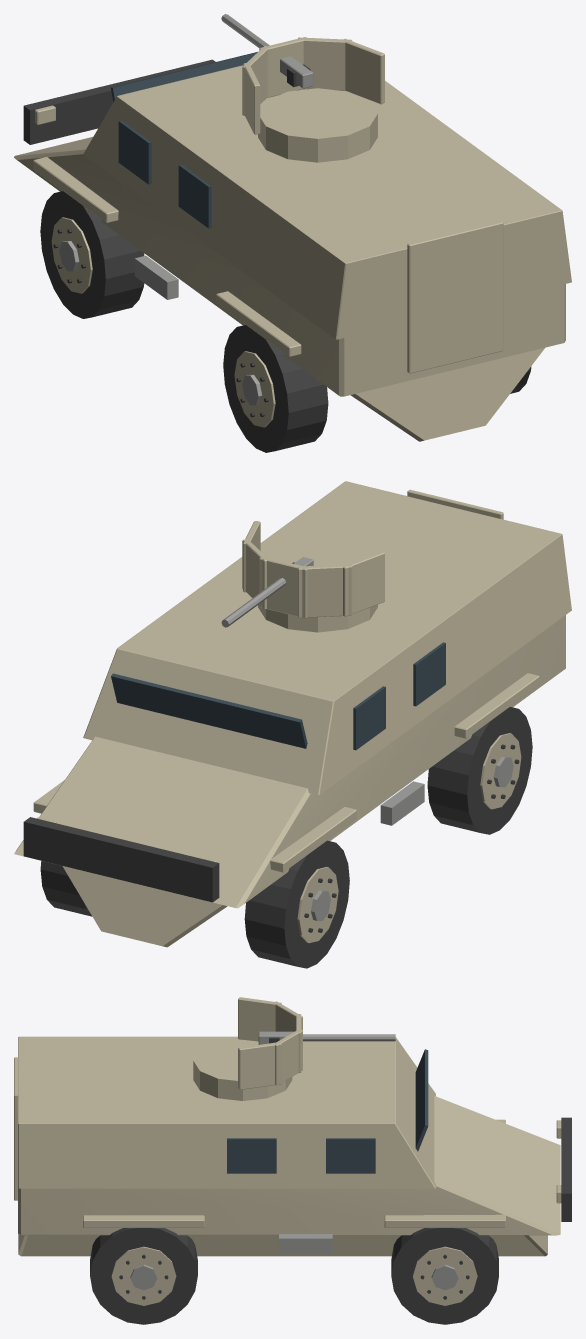
The model's file is rus_mrap_vdv.glb.
3 views of the same model, one above another, from view 1: azimuth 30°, elevation 25°; view 2: azimuth 150°, elevation 25°; view 3: azimuth 270°, elevation 25° (orthographic). The views are drawn at different scales.
Visible parts, largest first — view 1: body, turret, wheel_2, wheel_0, barrel; view 2: body, turret, wheel_2, wheel_0, wheel_1, barrel; view 3: body, wheel_1, wheel_3, turret, barrel.
Boxes of the visible parts, box(x1,y1,x2,y2) form: body: box(14, 52, 571, 441); turret: box(242, 37, 384, 162); wheel_2: box(223, 325, 328, 452); wheel_0: box(40, 191, 144, 318); barrel: box(221, 14, 313, 88); body: box(14, 481, 571, 947); turret: box(242, 521, 384, 632); wheel_2: box(427, 707, 532, 834); wheel_0: box(244, 840, 349, 968); wheel_1: box(40, 861, 92, 916); barrel: box(221, 557, 313, 627); body: box(14, 1036, 571, 1256); wheel_1: box(391, 1228, 498, 1324); wheel_3: box(90, 1228, 197, 1324); turret: box(193, 997, 302, 1100); barrel: box(258, 1031, 395, 1044).
Bounding box in the file's own units: 2.72 × 3.1 × 6.2.
